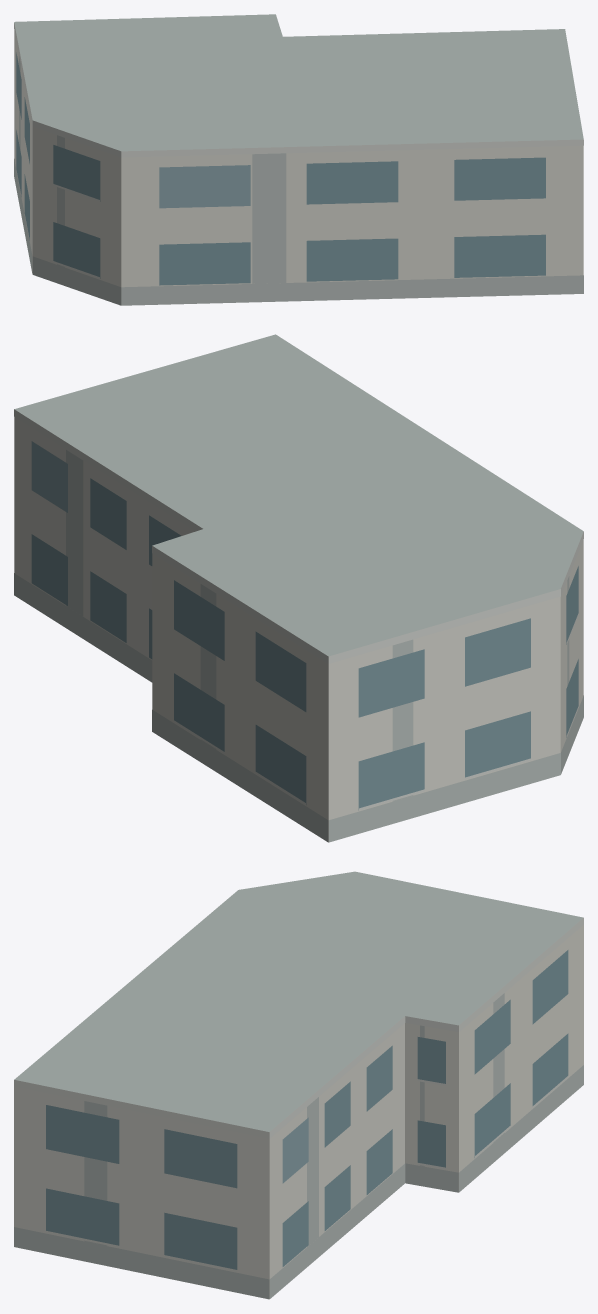
File: residential-dbf3989c-82cf-438d-a6fd-c0ef0508cace.glb
3 views of the same model, one above another, from view 1: azimuth 30°, elevation 25°; view 2: azimuth 150°, elevation 25°; view 3: azimuth 270°, elevation 25° (orthographic). The views are drawn at different scales.
Parts seen in each view (by area): view 1: residential-dbf3989c-82cf-438d-a6fd-c0ef0508cace.tmp; view 2: residential-dbf3989c-82cf-438d-a6fd-c0ef0508cace.tmp; view 3: residential-dbf3989c-82cf-438d-a6fd-c0ef0508cace.tmp.
Boxes of the visible parts, x1,y1,x2,y2 form: residential-dbf3989c-82cf-438d-a6fd-c0ef0508cace.tmp: [14, 14, 583, 305]; residential-dbf3989c-82cf-438d-a6fd-c0ef0508cace.tmp: [14, 334, 583, 842]; residential-dbf3989c-82cf-438d-a6fd-c0ef0508cace.tmp: [14, 871, 583, 1299].
Size of the model in its own units: 20.06 by 6 by 18.53.
